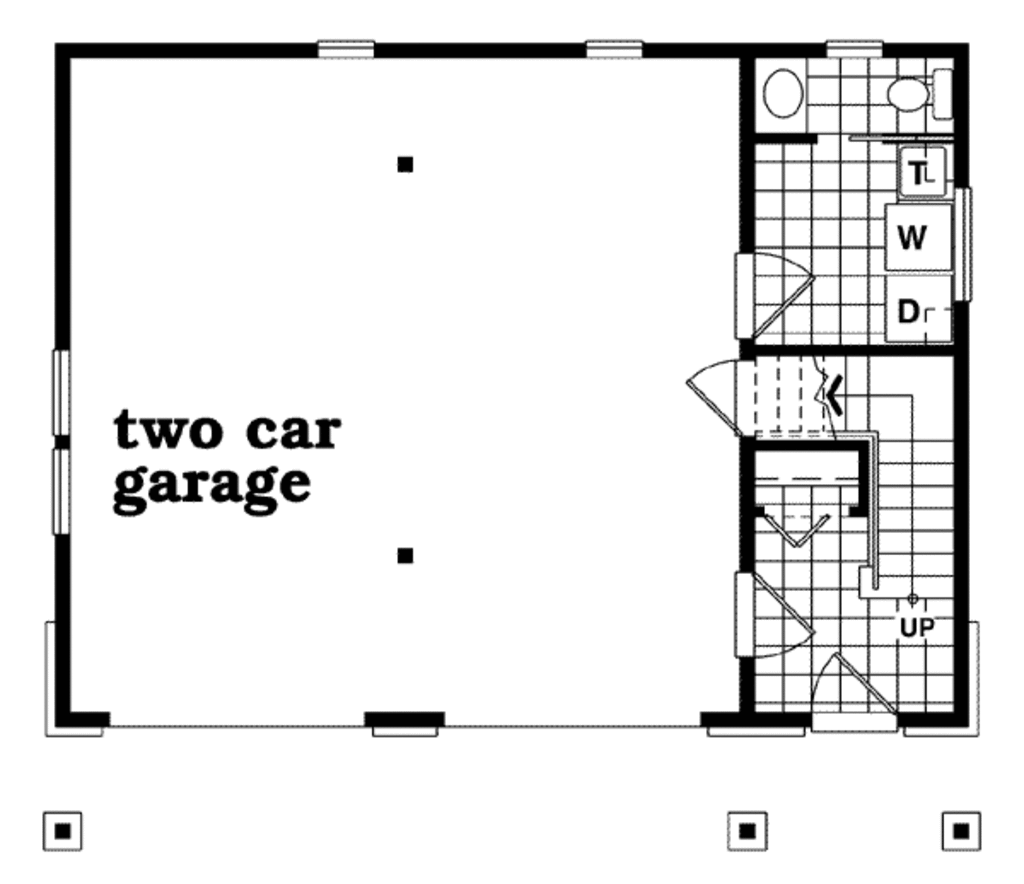door: (805, 639, 905, 736), (734, 574, 822, 667), (726, 240, 807, 335), (681, 351, 754, 436)
large_sink: (869, 59, 953, 130)
small_sink: (757, 52, 813, 140)
stairs: (746, 344, 954, 595)
window: (42, 348, 81, 436), (49, 443, 81, 529), (574, 32, 646, 60), (955, 186, 973, 298), (365, 720, 451, 741), (317, 29, 374, 58), (817, 37, 886, 55)
